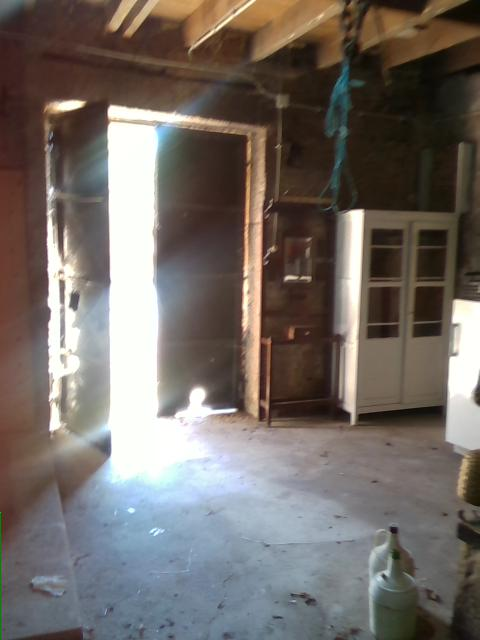semi_door: (36, 92, 266, 461)
